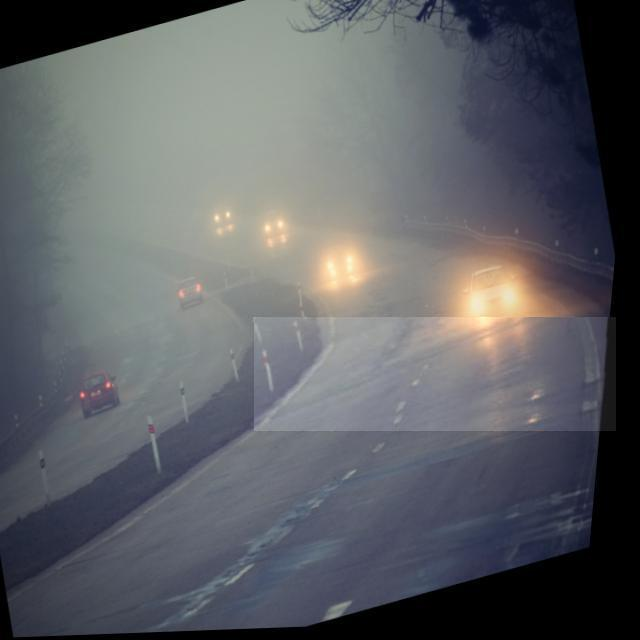Unmarked Bump: (254, 318, 616, 432)
